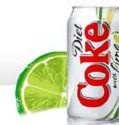grozi_54: (65, 6, 118, 124)
